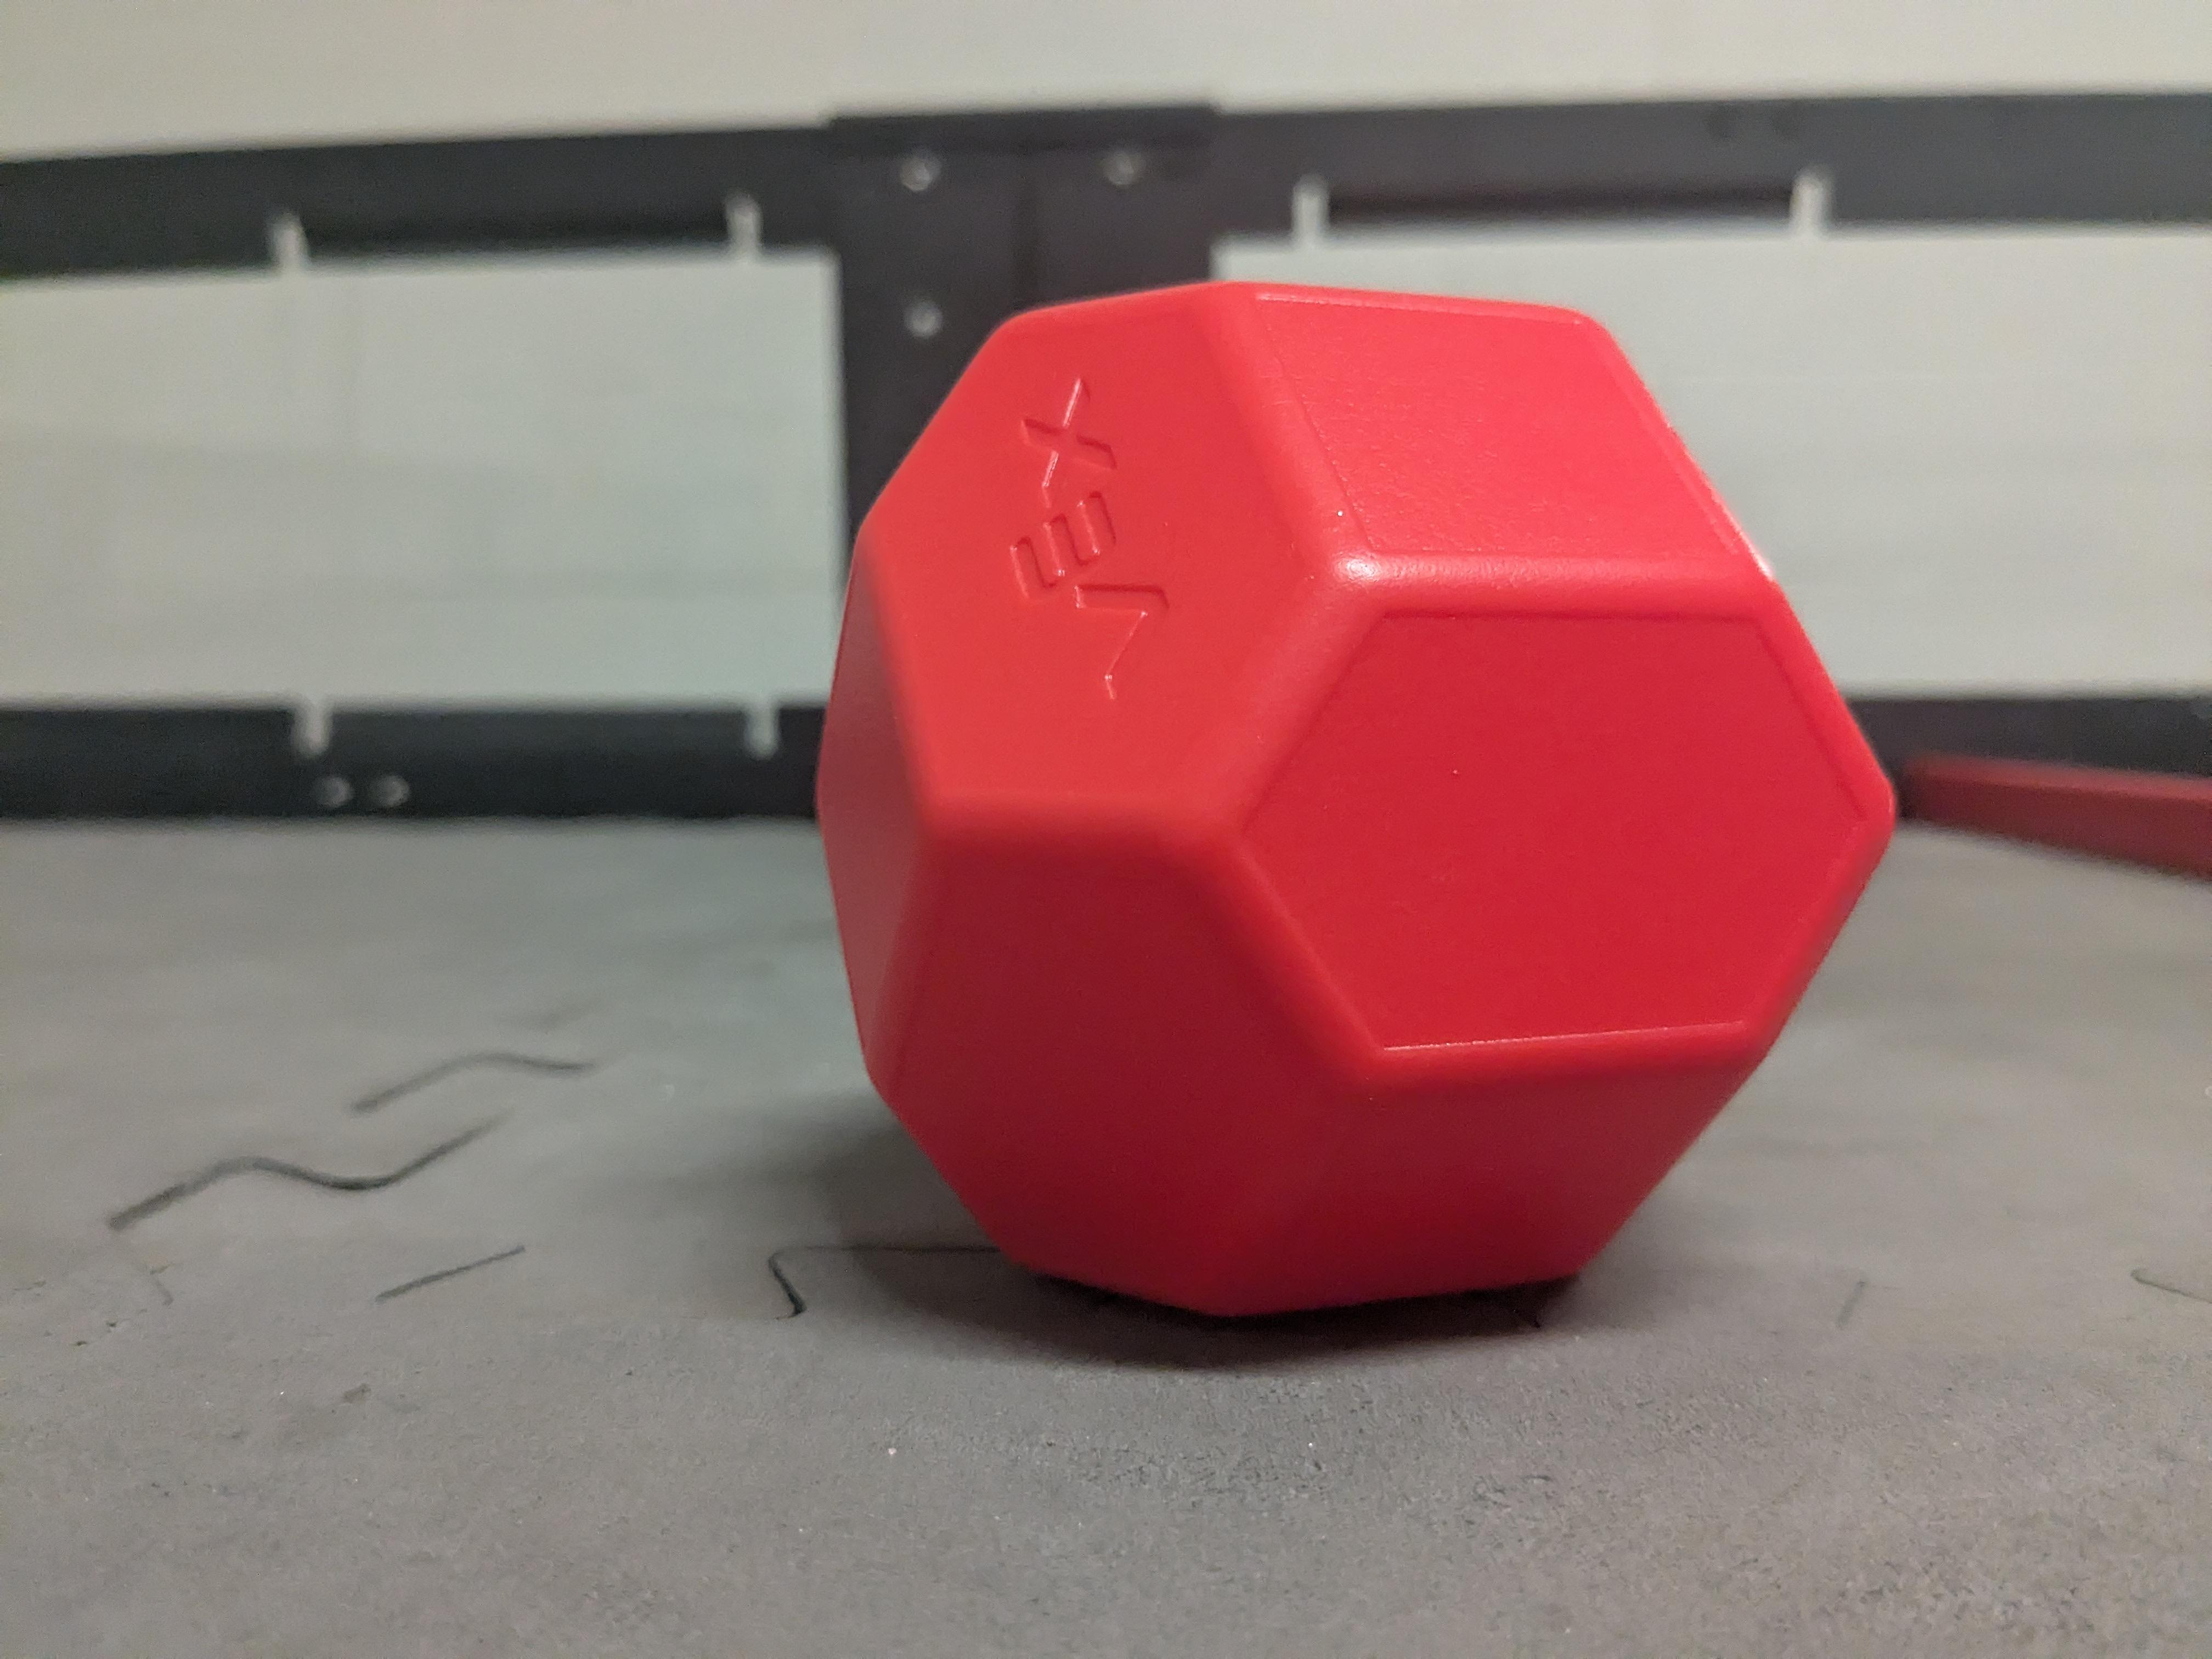Vex-Pieces-RED: (819, 284, 1893, 1312)
